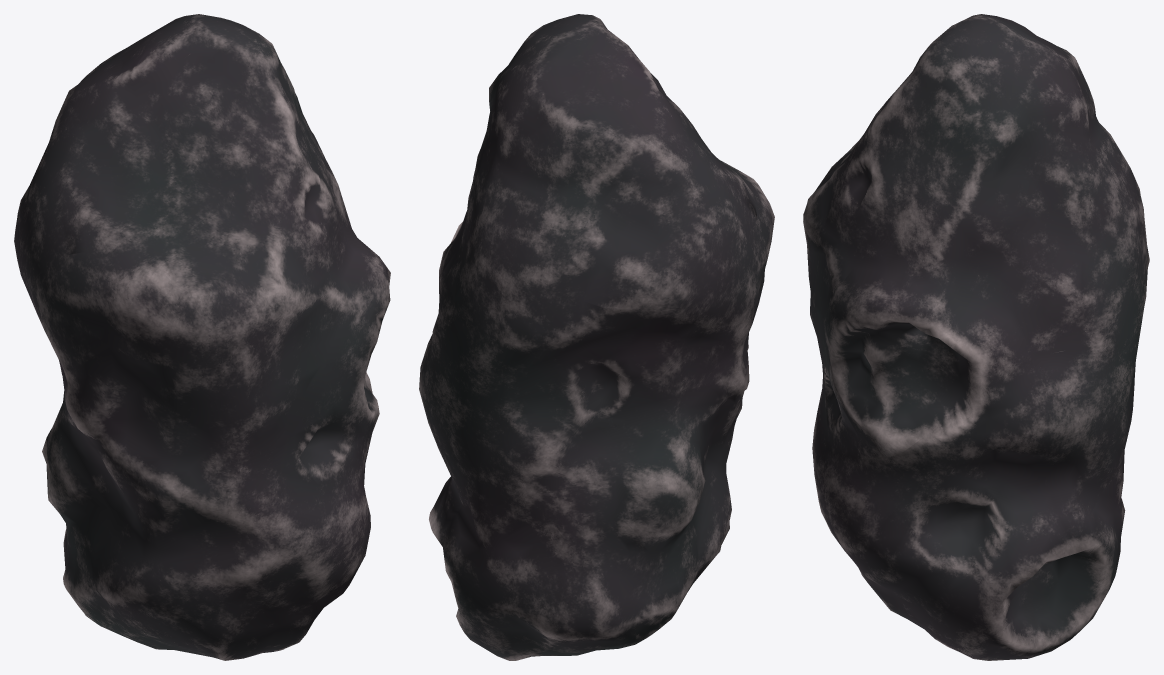
3 renders of one model, left to right at view 1: azimuth 30°, elevation 25°; view 2: azimuth 150°, elevation 25°; view 3: azimuth 270°, elevation 25°, orthographic. The views are drawn at different scales.
Visible parts, largest first — view 1: 3.001; view 2: 3.001; view 3: 3.001.
Part boxes in pixels (x1,y1,x2,y2): 3.001: (14,14,390,660); 3.001: (419,14,774,660); 3.001: (803,14,1149,660).
Size of the model in its own units: 4.18 by 8.05 by 4.13.
Materials: 1 (1 with a texture image).
